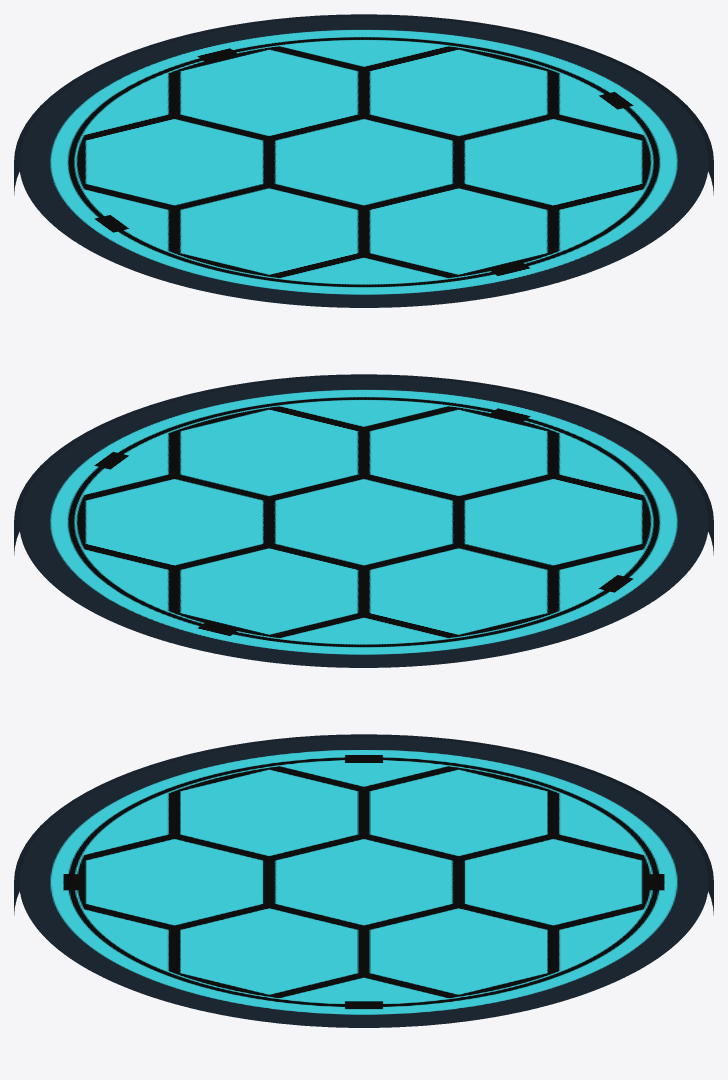
3 renders of one model, top to bottom at view 1: azimuth 30°, elevation 25°; view 2: azimuth 150°, elevation 25°; view 3: azimuth 270°, elevation 25°, orthographic.
Bounding box in the file's own units: 2.5 × 0.14 × 2.5.
2 materials, 2 textured.
